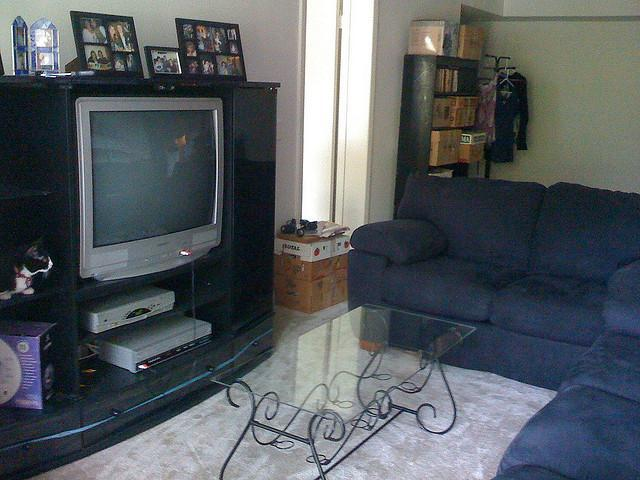tv: (59, 87, 221, 282)
